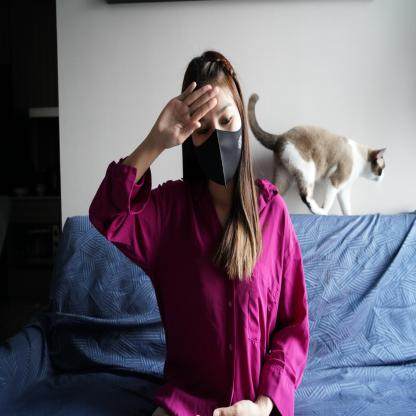Sick: (143, 78, 221, 156)
